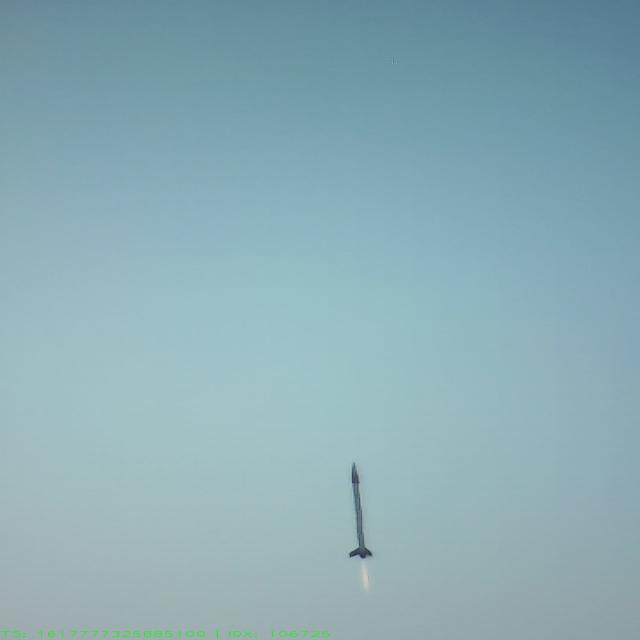Rocket: (347, 462, 374, 558)
